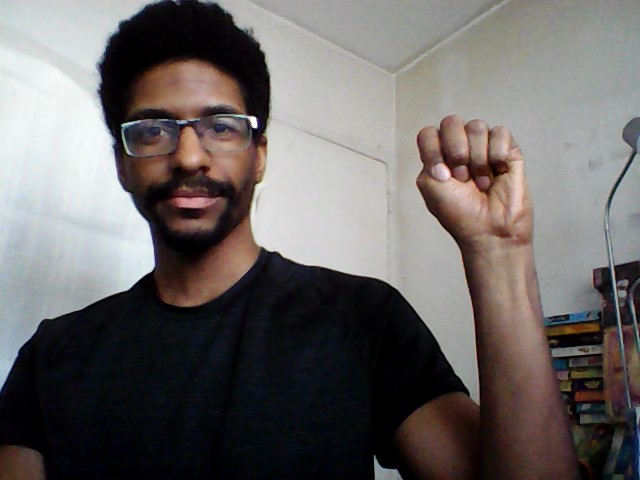m: (413, 107, 540, 247)
